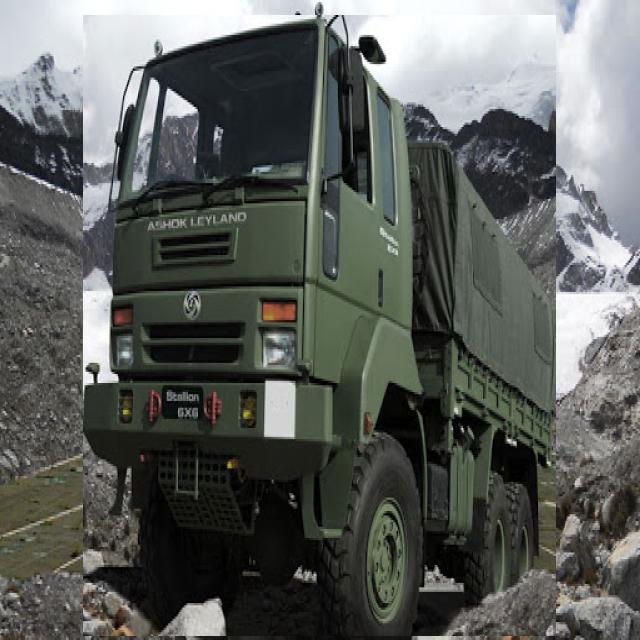truck: (83, 15, 555, 636)
